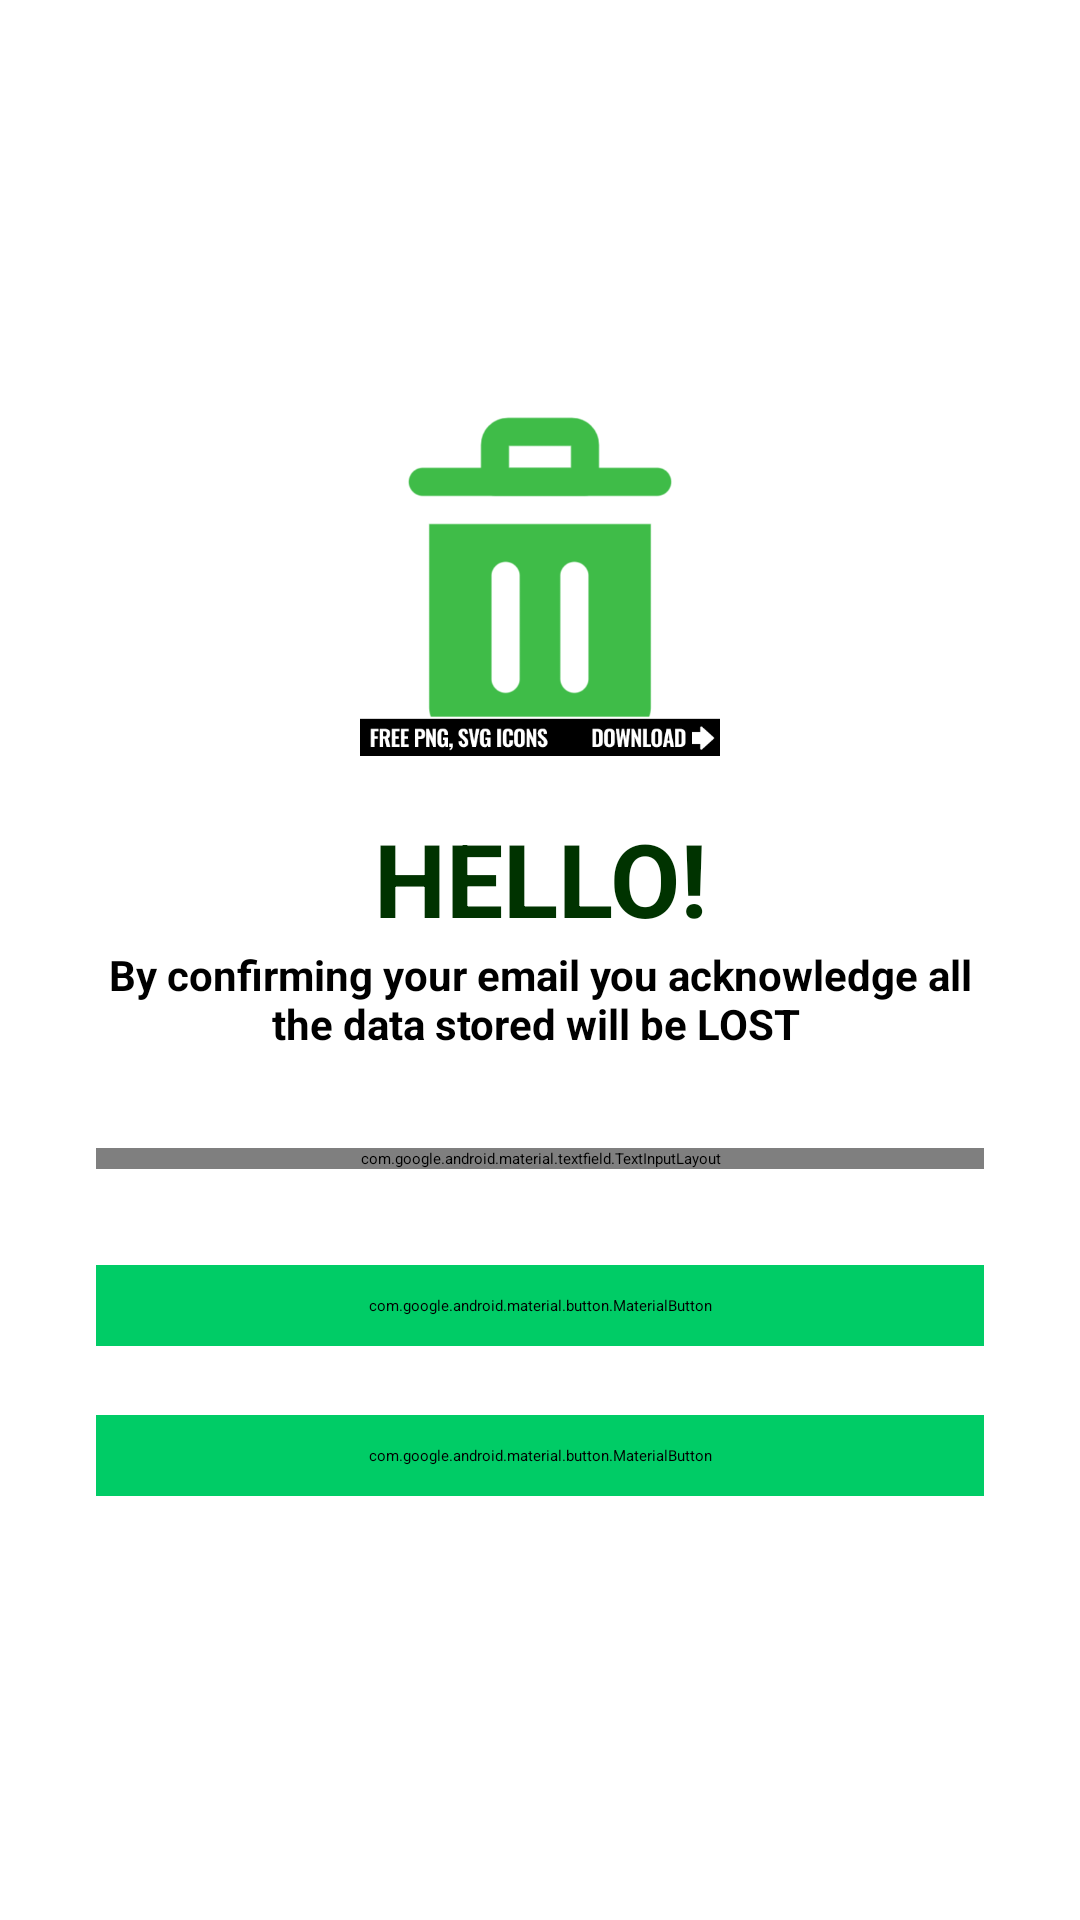

Where to tap for icons on this 1080 × 1920 app screen, as (x=x, y=y):
delete: (x=540, y=586)
